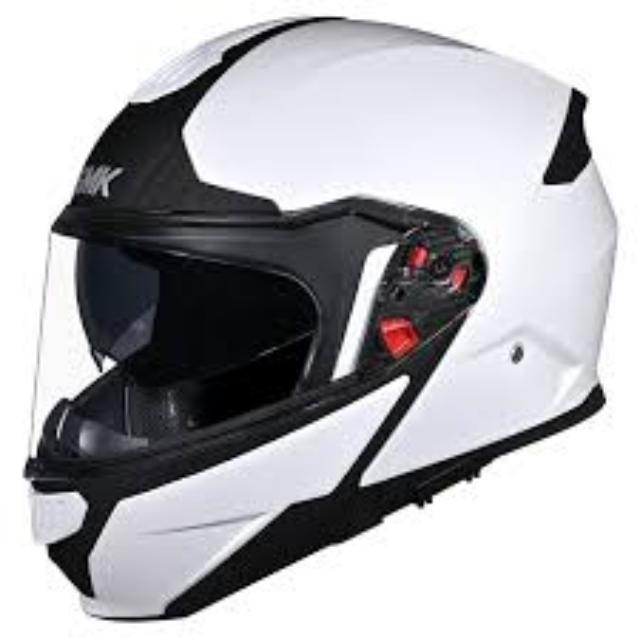motorcycle-helmets: (25, 22, 621, 634)
